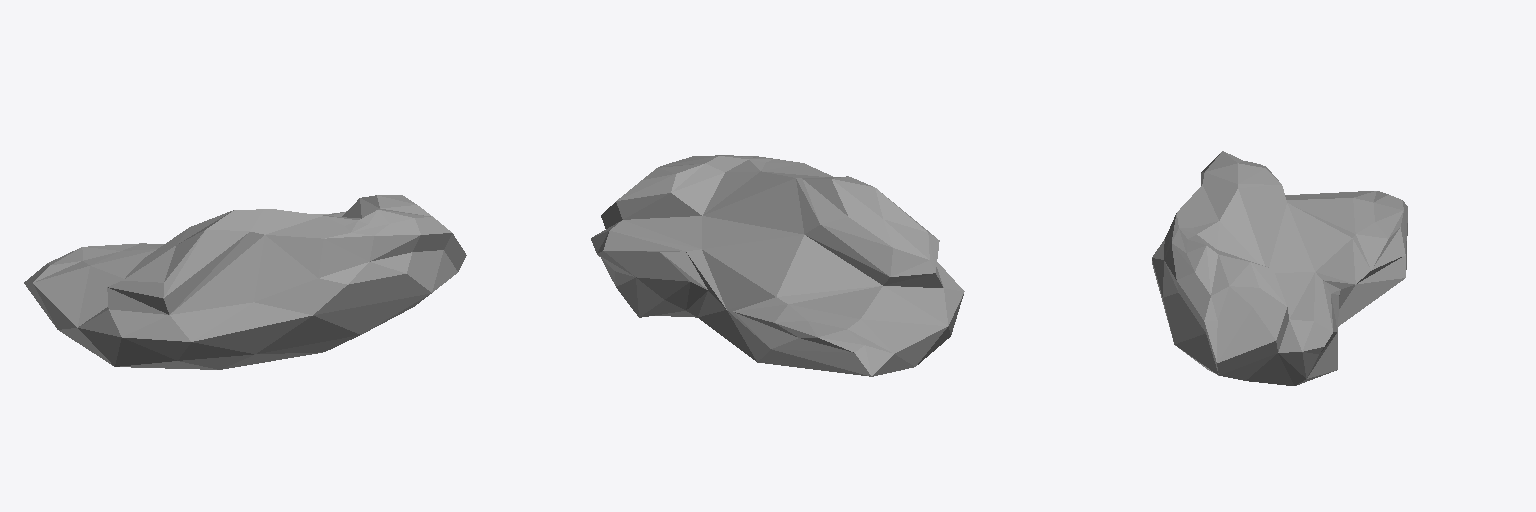
Rendered from Rubble01.obj.
3 views of the same model, side by side, from view 1: azimuth 30°, elevation 25°; view 2: azimuth 150°, elevation 25°; view 3: azimuth 270°, elevation 25° (orthographic).
Parts seen in each view (by area): view 1: Rubble01; view 2: Rubble01; view 3: Rubble01.
Part boxes in pixels (x1,y1,x2,y2): Rubble01: (24,195,466,369); Rubble01: (591,155,964,376); Rubble01: (1152,151,1407,385).
Bounding box in the file's own units: 1.47 × 0.5645 × 0.9113.